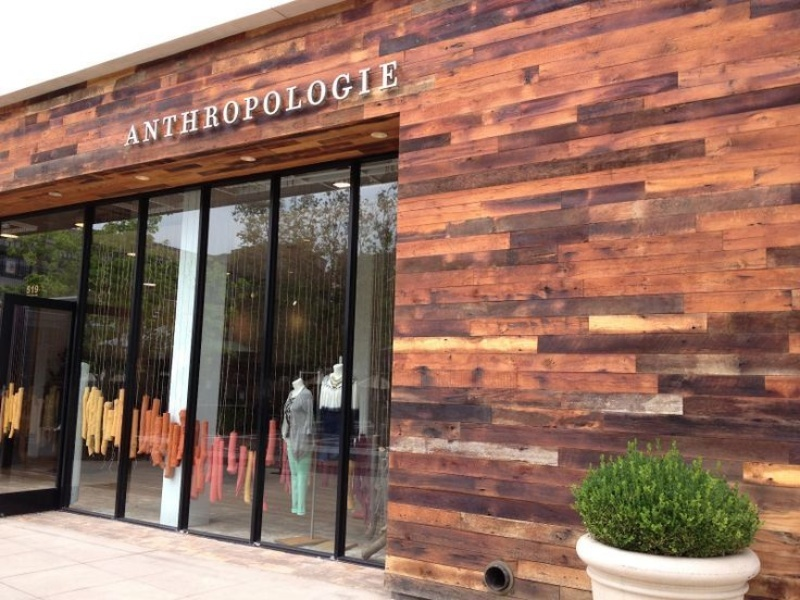text: (145, 59, 160, 148), (161, 59, 176, 148), (177, 59, 192, 148), (193, 59, 208, 148), (209, 59, 224, 148), (225, 59, 240, 148), (241, 59, 256, 148), (257, 59, 272, 148), (273, 59, 288, 148), (289, 59, 304, 148), (305, 59, 320, 148), (321, 59, 336, 148), (337, 59, 352, 148), (353, 59, 368, 148), (369, 59, 384, 148), (130, 59, 144, 148), (385, 59, 397, 148), (33, 284, 39, 294), (27, 284, 32, 294)
